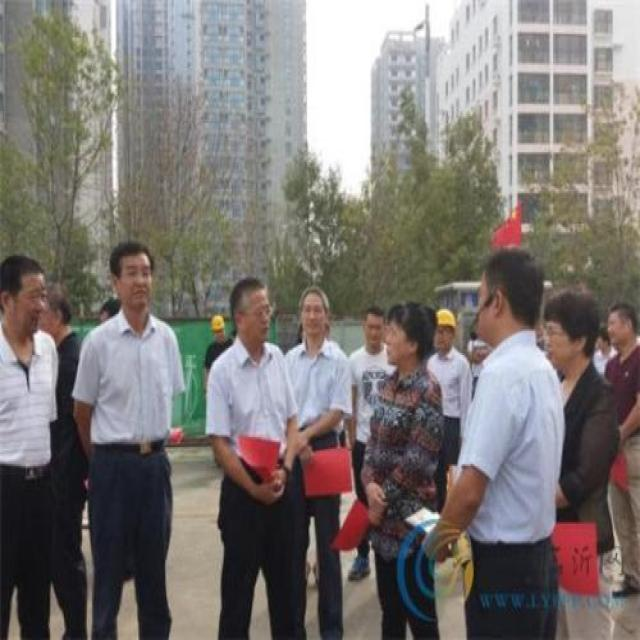helmet: (426, 300, 460, 355), (202, 307, 230, 347)
no-helmet: (478, 244, 546, 352), (542, 283, 602, 381), (108, 236, 162, 324), (1, 252, 50, 346), (388, 294, 439, 377), (226, 270, 278, 348), (294, 283, 333, 348), (41, 282, 78, 348), (603, 297, 639, 353), (359, 304, 386, 355)
